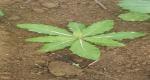osot: (17, 19, 148, 61)
